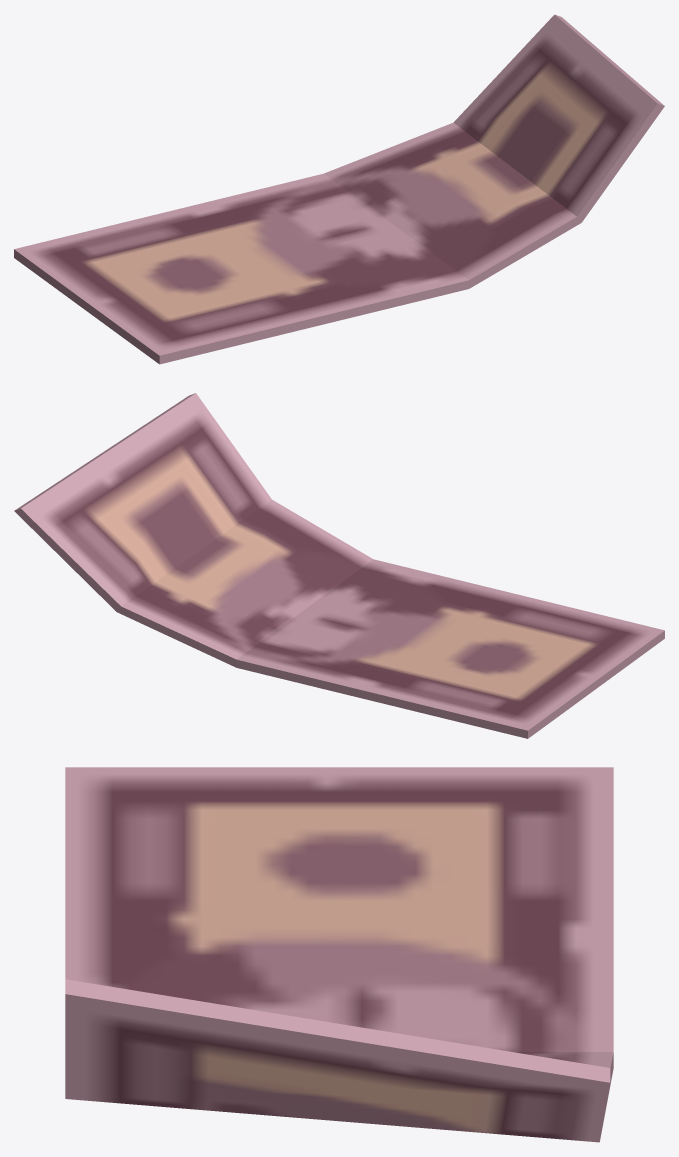
The model's file is SM_Prop_Money_Note_02.fbx.
3 views of the same model, one above another, from view 1: azimuth 30°, elevation 25°; view 2: azimuth 150°, elevation 25°; view 3: azimuth 270°, elevation 25° (orthographic). The views are drawn at different scales.
Visible parts, largest first — view 1: SM_Prop_Money_Note_02; view 2: SM_Prop_Money_Note_02; view 3: SM_Prop_Money_Note_02.
Part boxes in pixels (x1,y1,x2,y2): SM_Prop_Money_Note_02: (14, 14, 664, 364); SM_Prop_Money_Note_02: (14, 393, 664, 738); SM_Prop_Money_Note_02: (65, 767, 613, 1142).
Bounding box in the file's own units: 24.16 × 5.88 × 11.14.
